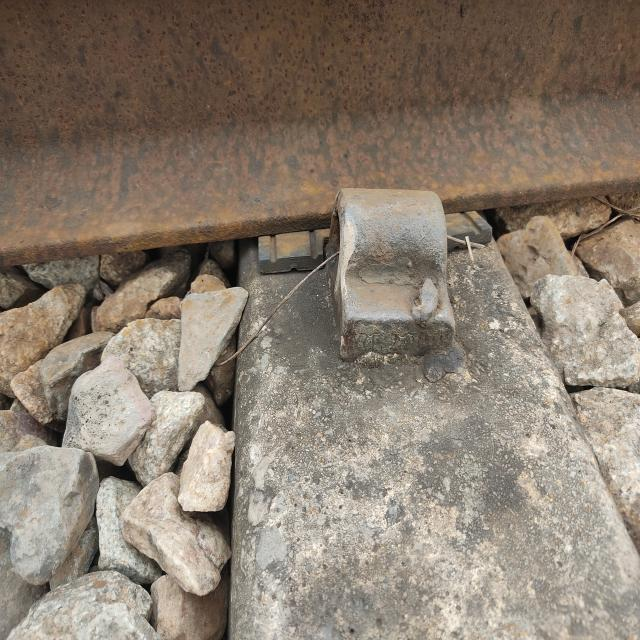defective: (280, 111, 486, 428)
